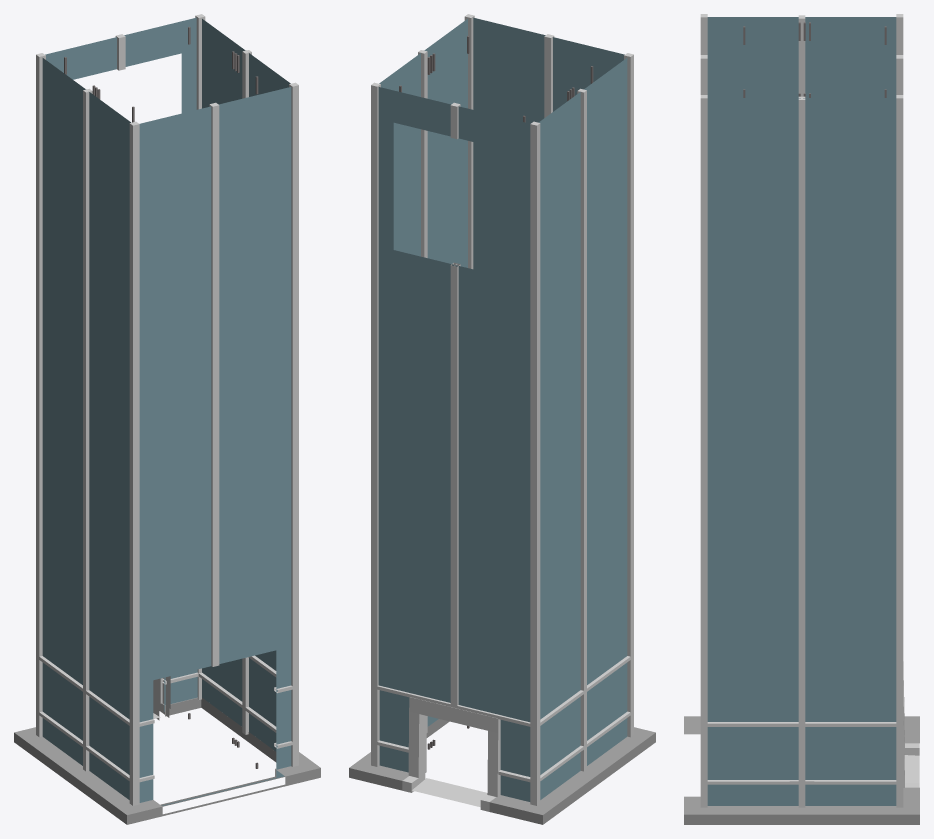
File: lift-shaft-0-0.glb
3 renders of one model, left to right at view 1: azimuth 30°, elevation 25°; view 2: azimuth 150°, elevation 25°; view 3: azimuth 270°, elevation 25°, orthographic. The views are drawn at different scales.
Visible parts, largest first — view 1: BackUpWithMirror.001_Cube.004 / Glass, BackUpWithMirror.001_Cube.004 / Metal, BackUpWithMirror.001_Cube.004 / Beton, BackUpWithMirror.001_Cube.004 / BlackMetal; view 2: BackUpWithMirror.001_Cube.004 / Glass, BackUpWithMirror.001_Cube.004 / Metal, BackUpWithMirror.001_Cube.004 / Beton; view 3: BackUpWithMirror.001_Cube.004 / Glass, BackUpWithMirror.001_Cube.004 / Metal, BackUpWithMirror.001_Cube.004 / Beton.
Part boxes in pixels (x1,y1,x2,y2): BackUpWithMirror.001_Cube.004 / Glass: (42, 17, 291, 805); BackUpWithMirror.001_Cube.004 / Metal: (36, 14, 298, 805); BackUpWithMirror.001_Cube.004 / Beton: (14, 697, 320, 824); BackUpWithMirror.001_Cube.004 / BlackMetal: (64, 26, 258, 768); BackUpWithMirror.001_Cube.004 / Glass: (378, 17, 627, 801); BackUpWithMirror.001_Cube.004 / Metal: (371, 14, 633, 811); BackUpWithMirror.001_Cube.004 / Beton: (349, 719, 655, 824); BackUpWithMirror.001_Cube.004 / Glass: (707, 17, 896, 805); BackUpWithMirror.001_Cube.004 / Metal: (700, 14, 919, 807); BackUpWithMirror.001_Cube.004 / Beton: (684, 716, 919, 824).
Bounding box in the file's own units: 8.52 × 29.14 × 8.61.
